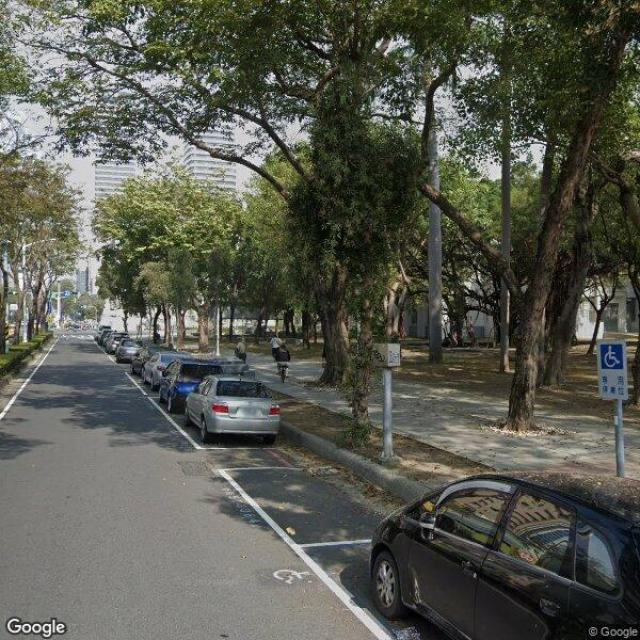Legalparking: (370, 474, 639, 639), (131, 349, 280, 442)
